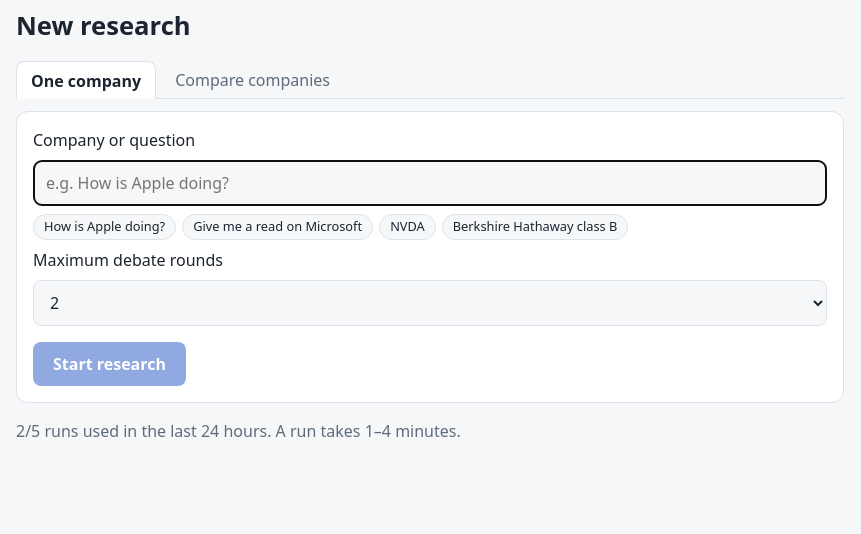
Scenario: NewResearchPage › shows the server message on HTTP 429
Click the button "NVDA" at (407, 227), box [379, 214, 436, 240]
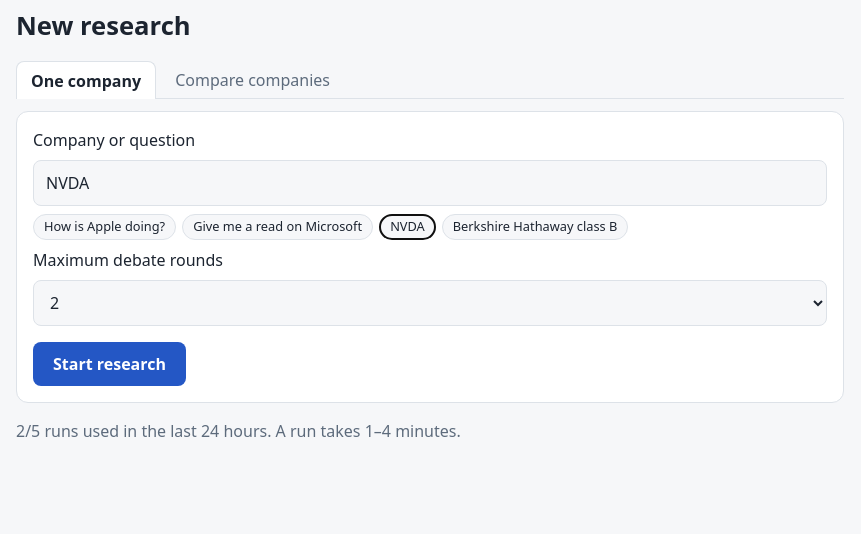
Click the button "Start research" at (110, 364), box [33, 342, 186, 386]
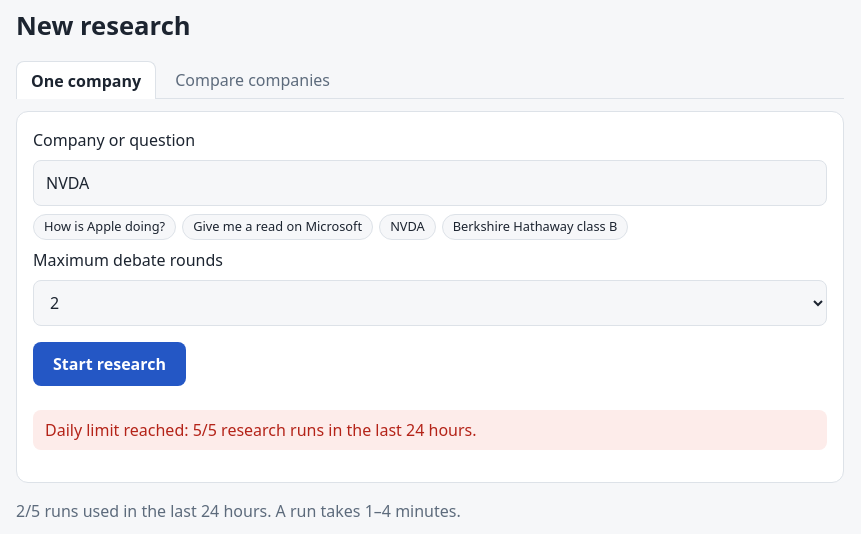
Expected: the message reads "Daily limit reached: 5/5 research runs in the last 24 hours.", [45, 419, 476, 441]
